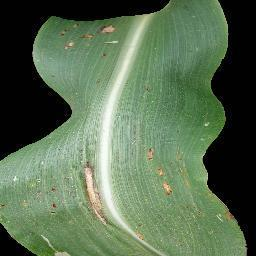Corn_Common_Rust: (71, 149, 111, 228), (54, 12, 120, 54), (140, 146, 179, 203), (23, 178, 64, 215), (35, 236, 81, 256), (206, 203, 237, 229), (132, 222, 152, 246), (139, 80, 155, 96), (0, 193, 9, 217), (95, 75, 105, 91)
